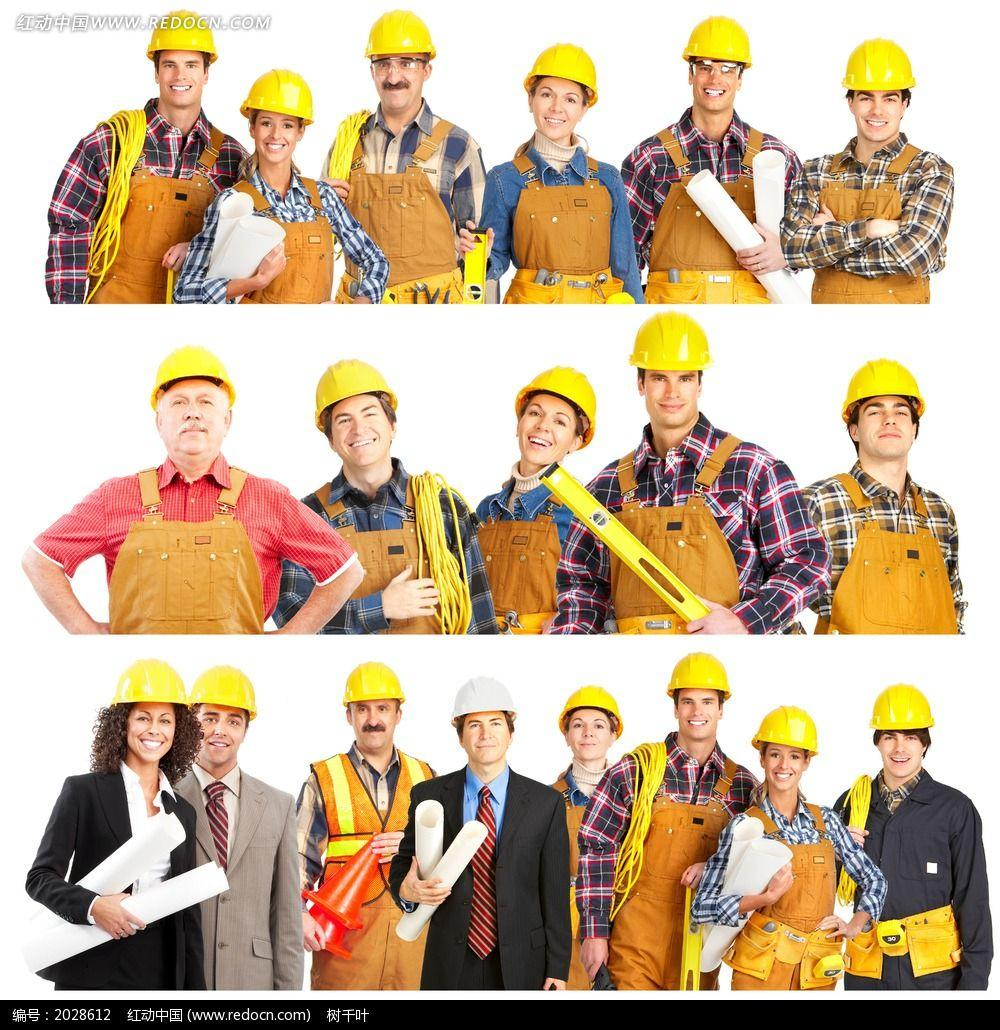helmet: (147, 347, 241, 402), (634, 308, 711, 372), (238, 68, 321, 127), (524, 370, 598, 435), (845, 358, 922, 414), (315, 361, 391, 417), (525, 47, 602, 100), (844, 41, 917, 95), (117, 664, 188, 712), (190, 668, 258, 717), (684, 20, 754, 67), (872, 685, 934, 737), (365, 10, 428, 60), (151, 15, 214, 64), (757, 704, 815, 755), (670, 652, 728, 701), (561, 688, 624, 731), (342, 665, 405, 705), (451, 681, 512, 721)
